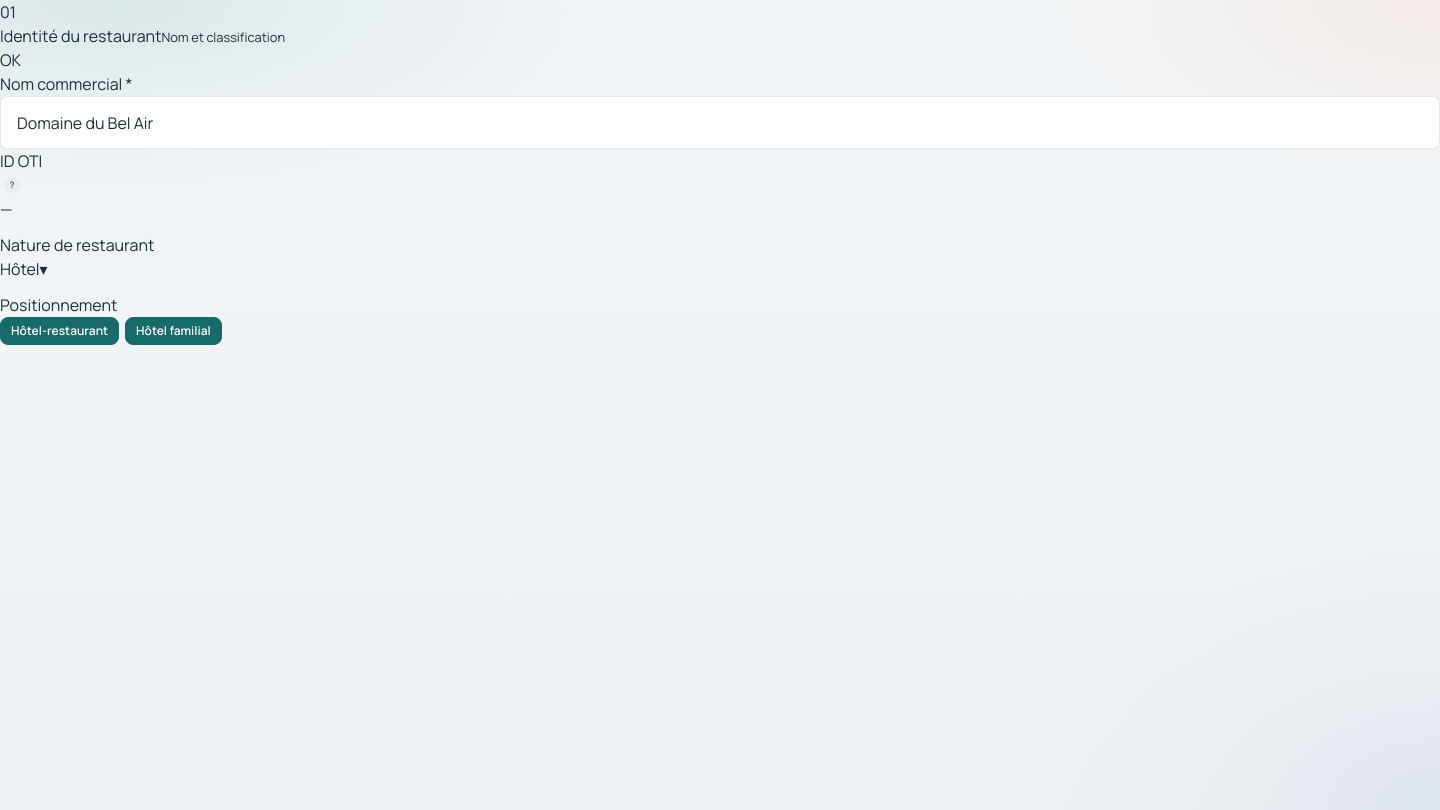
Test: SectionIdentity › adapts identity and taxonomy vocabulary for RES
Click the button "Hôtel▾" at point(24, 269), box x1=0 y1=257 x2=48 y2=281
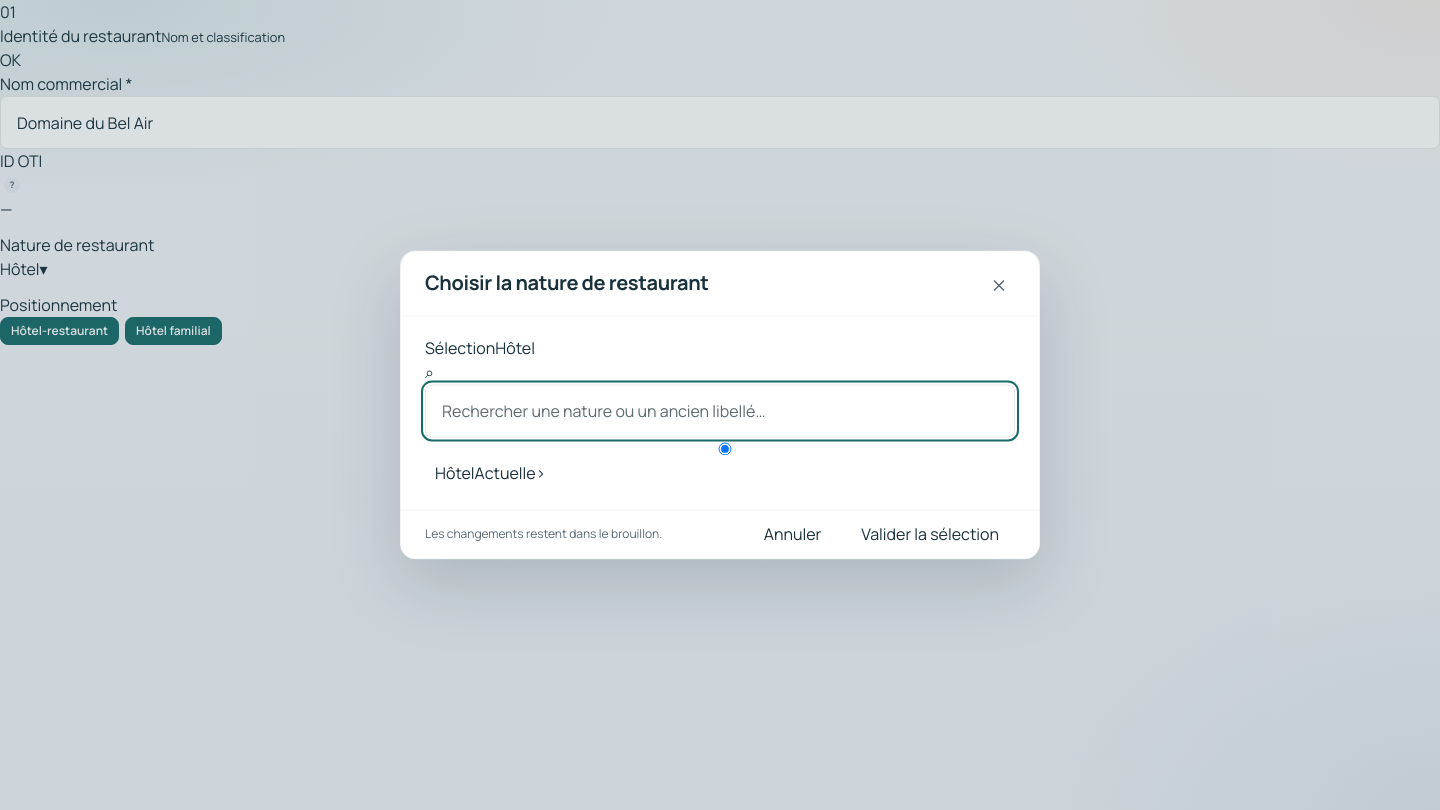
Expected: the radio button is shown, x1=435 y1=443 x2=1015 y2=456
